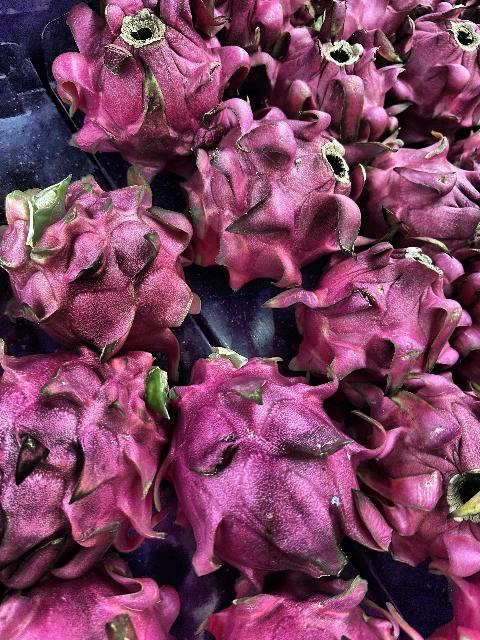buah-naga-belum-matang: (0, 172, 204, 346)
buah-naga-matang: (171, 343, 393, 574), (0, 323, 170, 572), (193, 99, 363, 277), (305, 222, 479, 386), (56, 0, 228, 160), (356, 363, 480, 571), (186, 560, 416, 640), (260, 16, 404, 138), (345, 129, 479, 255), (7, 558, 186, 640), (388, 11, 480, 139), (207, 0, 301, 52)
